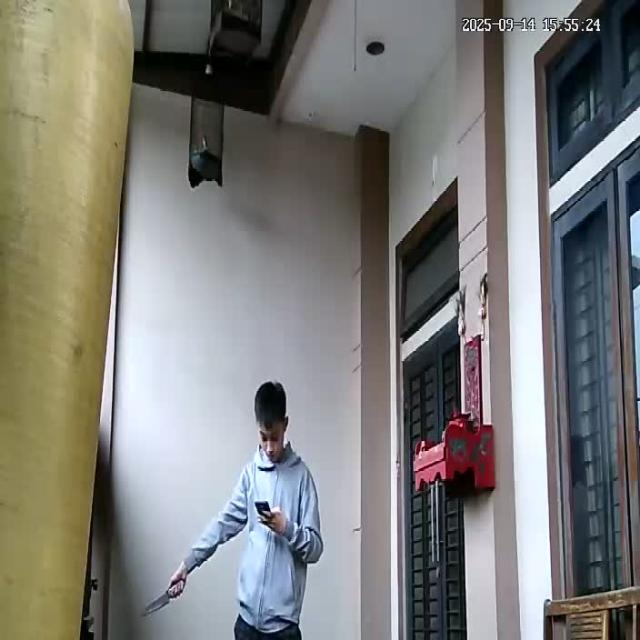senjata_tajam: (139, 589, 171, 619)
